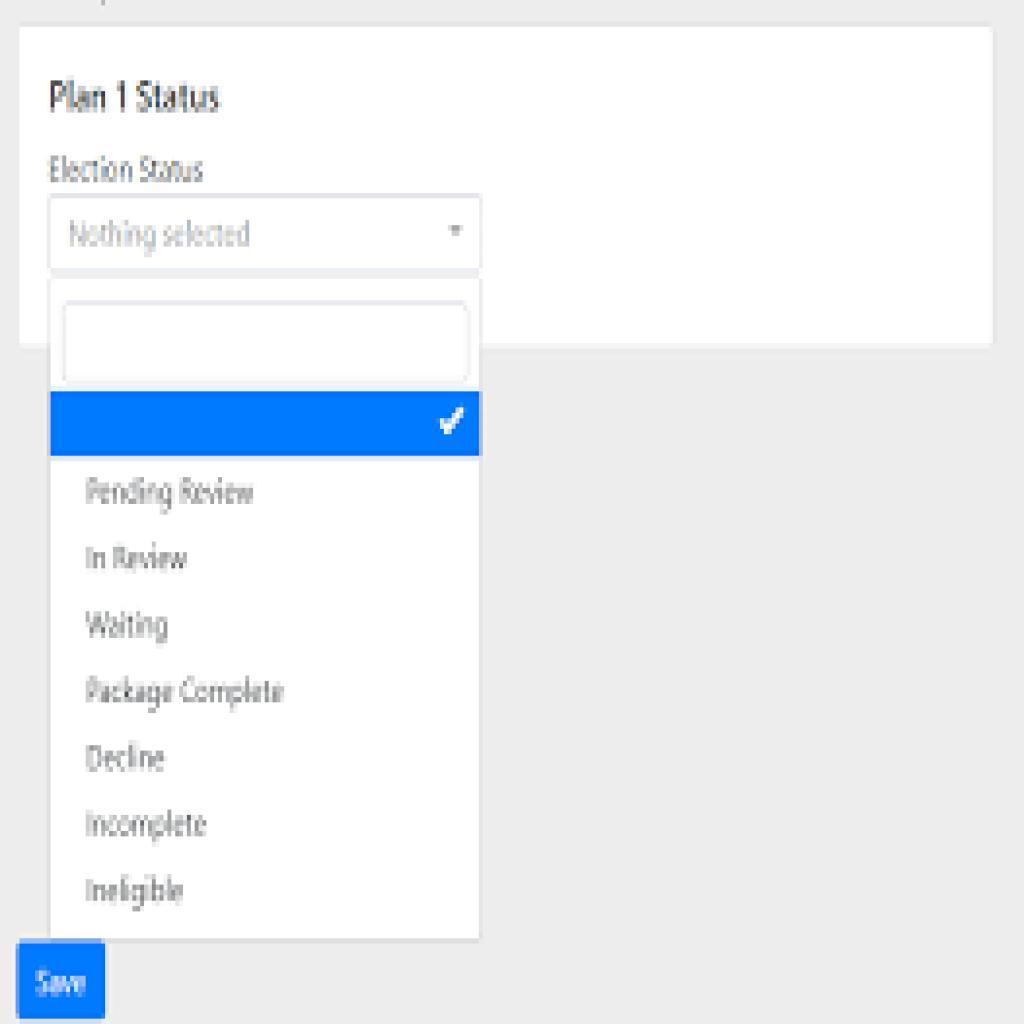button: (17, 940, 106, 1019)
dropdown: (46, 199, 483, 270)
input: (61, 303, 467, 389)
